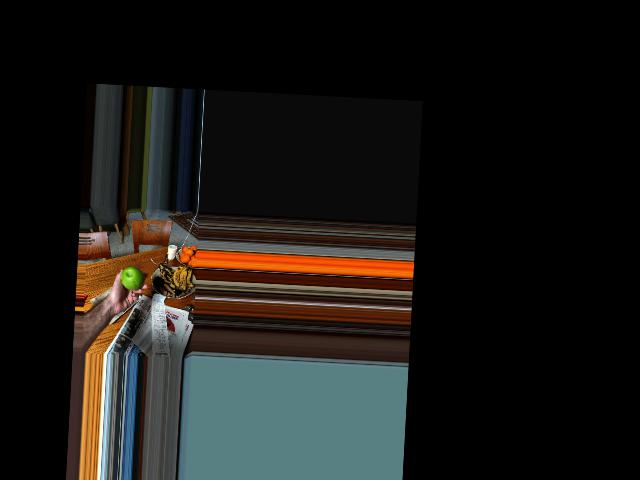apple: (120, 265, 144, 292)
